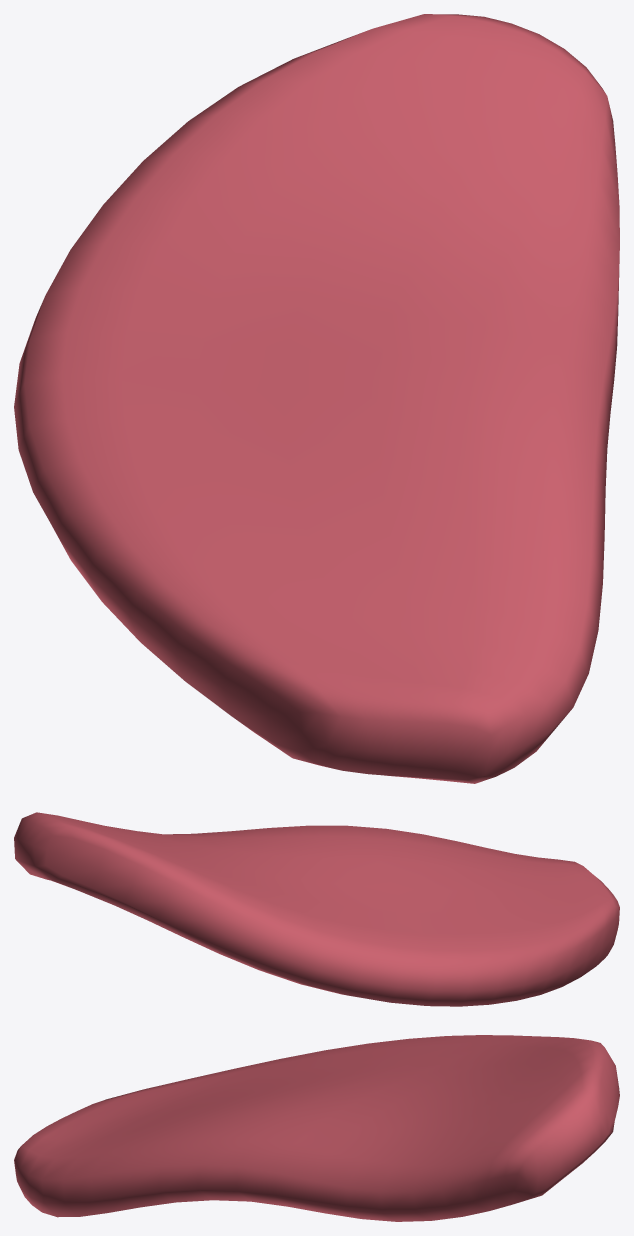
3 renders of one model, top to bottom at view 1: azimuth 30°, elevation 25°; view 2: azimuth 150°, elevation 25°; view 3: azimuth 270°, elevation 25°, orthographic. The views are drawn at different scales.
Parts seen in each view (by area): view 1: 右侧腓肠肌内侧头腱下囊; view 2: 右侧腓肠肌内侧头腱下囊; view 3: 右侧腓肠肌内侧头腱下囊.
Part boxes in pixels (x1=…): 右侧腓肠肌内侧头腱下囊: x1=14, y1=14, x2=619, y2=783; 右侧腓肠肌内侧头腱下囊: x1=14, y1=812, x2=619, y2=1006; 右侧腓肠肌内侧头腱下囊: x1=14, y1=1035, x2=619, y2=1221.
Size of the model in its own units: 0.0232 by 0.0119 by 0.0275.
